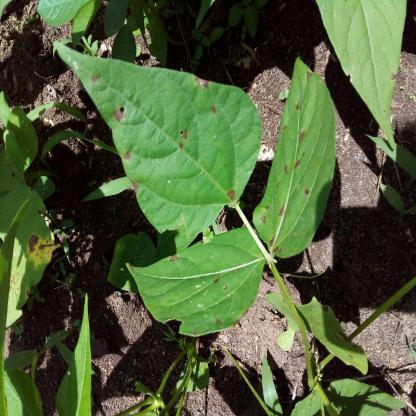Beans_Angular_LeafSpot: (82, 46, 242, 215), (257, 68, 334, 256), (138, 226, 250, 336), (2, 202, 75, 325), (336, 42, 408, 100)
